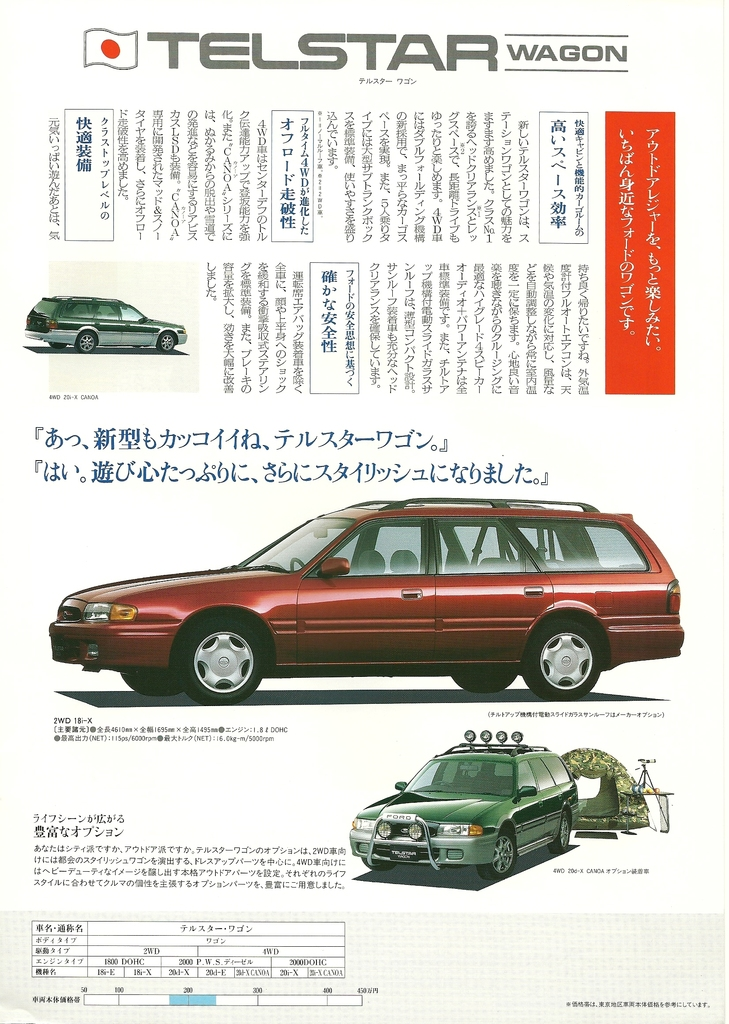Car: (39, 490, 704, 707), (344, 721, 580, 881), (19, 294, 186, 350)
